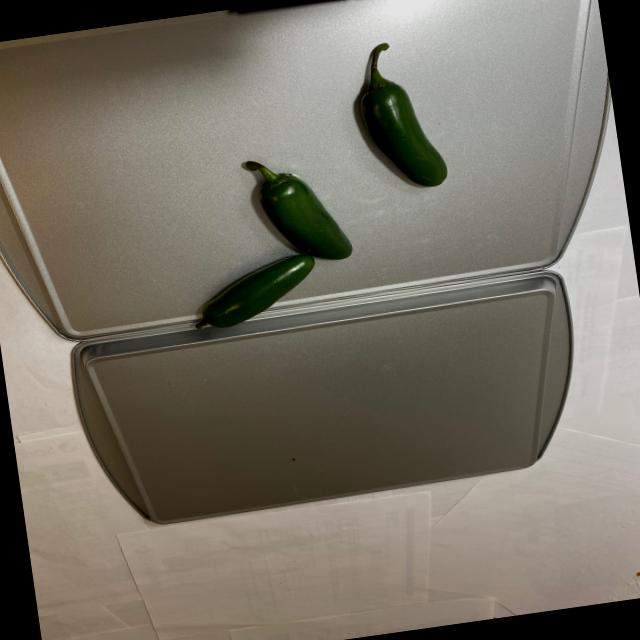chilli: (150, 28, 472, 336)
